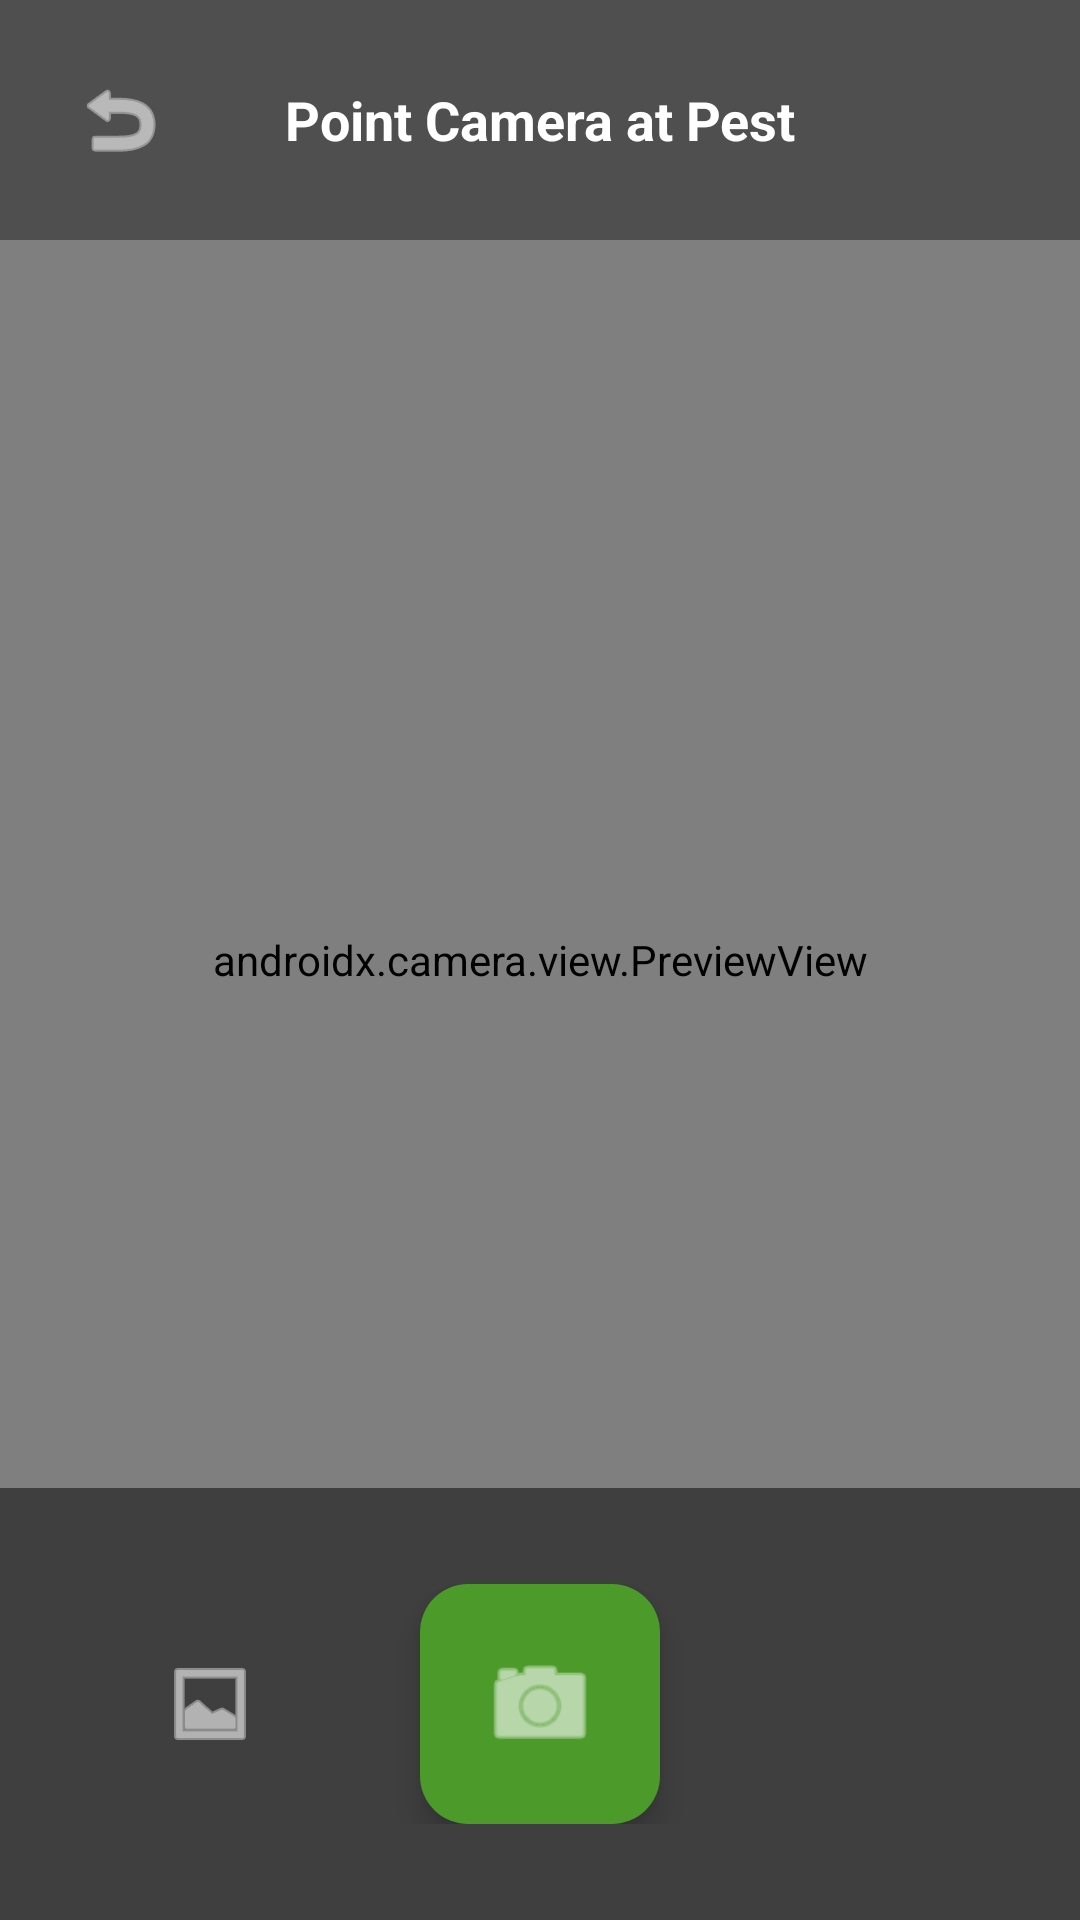

Where icons sit on this 1080 × 1920 app screen, as rect(x1, y1, x2, y2):
Choose from Gallery: rect(174, 1668, 246, 1740)
revert: rect(87, 89, 156, 152)
Take Photo: rect(420, 1584, 660, 1824)
